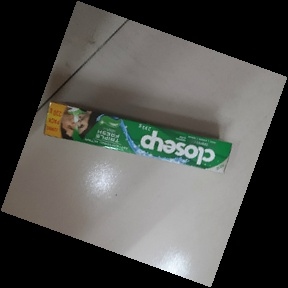CloseUp Xanh: (43, 99, 233, 174)
